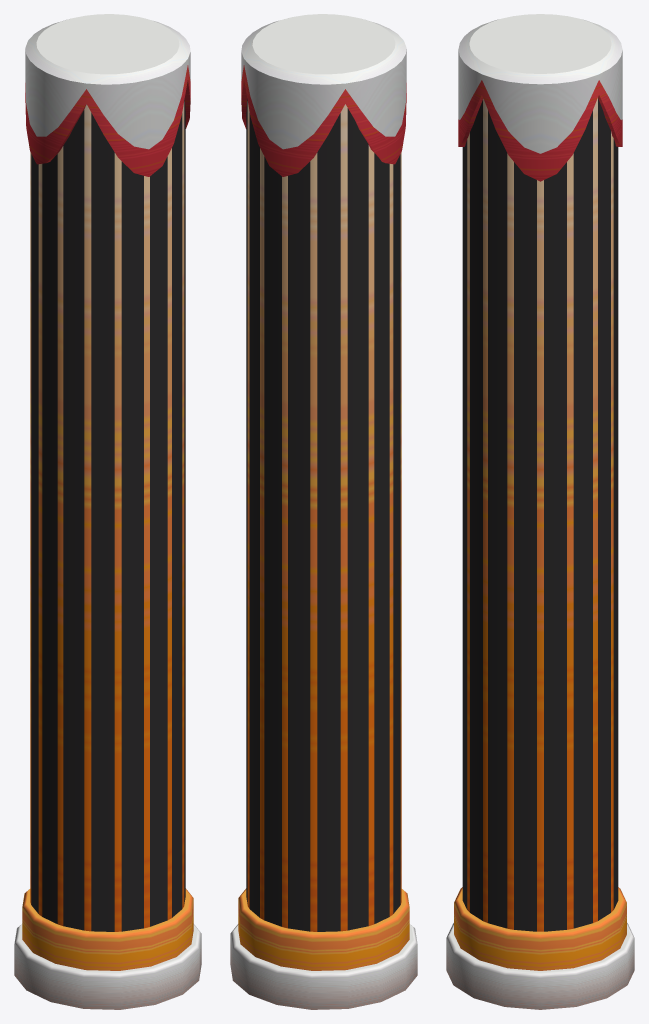
Rendered from column-17.glb.
3 renders of one model, left to right at view 1: azimuth 30°, elevation 25°; view 2: azimuth 150°, elevation 25°; view 3: azimuth 270°, elevation 25°, orthographic.
Visible parts, largest first — view 1: Column_17; view 2: Column_17; view 3: Column_17.
Boxes of the visible parts, bbox=[...] form: Column_17: bbox=[14, 14, 201, 1009]; Column_17: bbox=[230, 14, 417, 1009]; Column_17: bbox=[446, 14, 634, 1009].
Bounding box in the file's own units: 2.4 × 13 × 2.4.
1 material, 1 textured.
